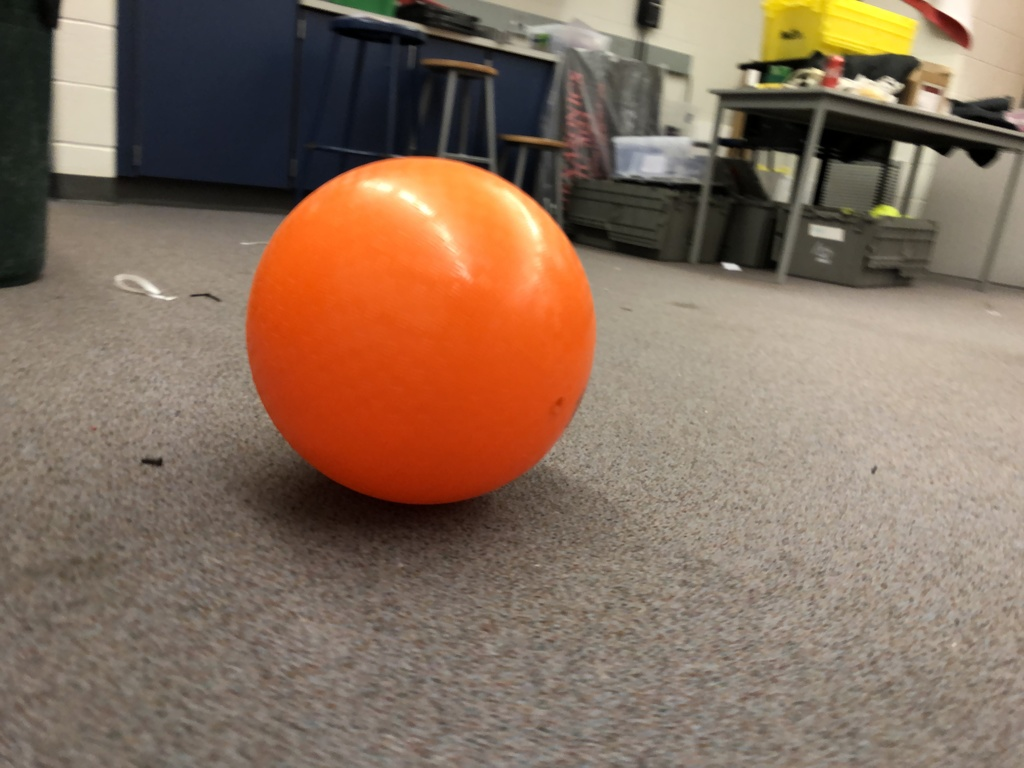cargo: (238, 145, 599, 520)
